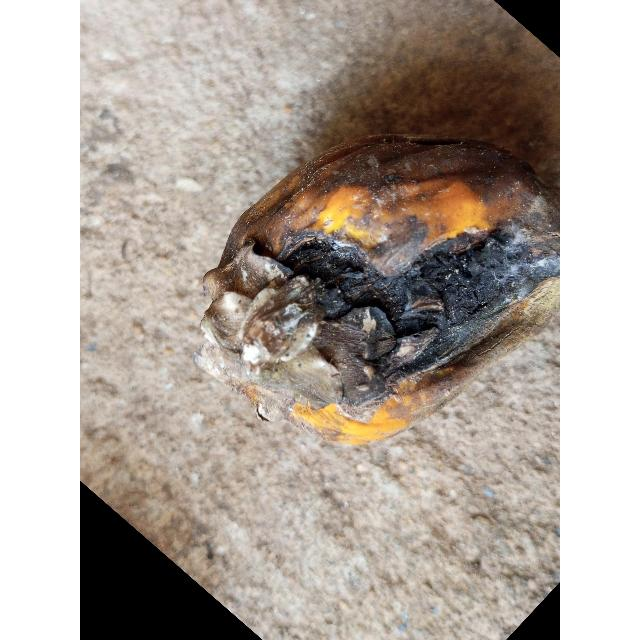damaged: (194, 135, 560, 444)
